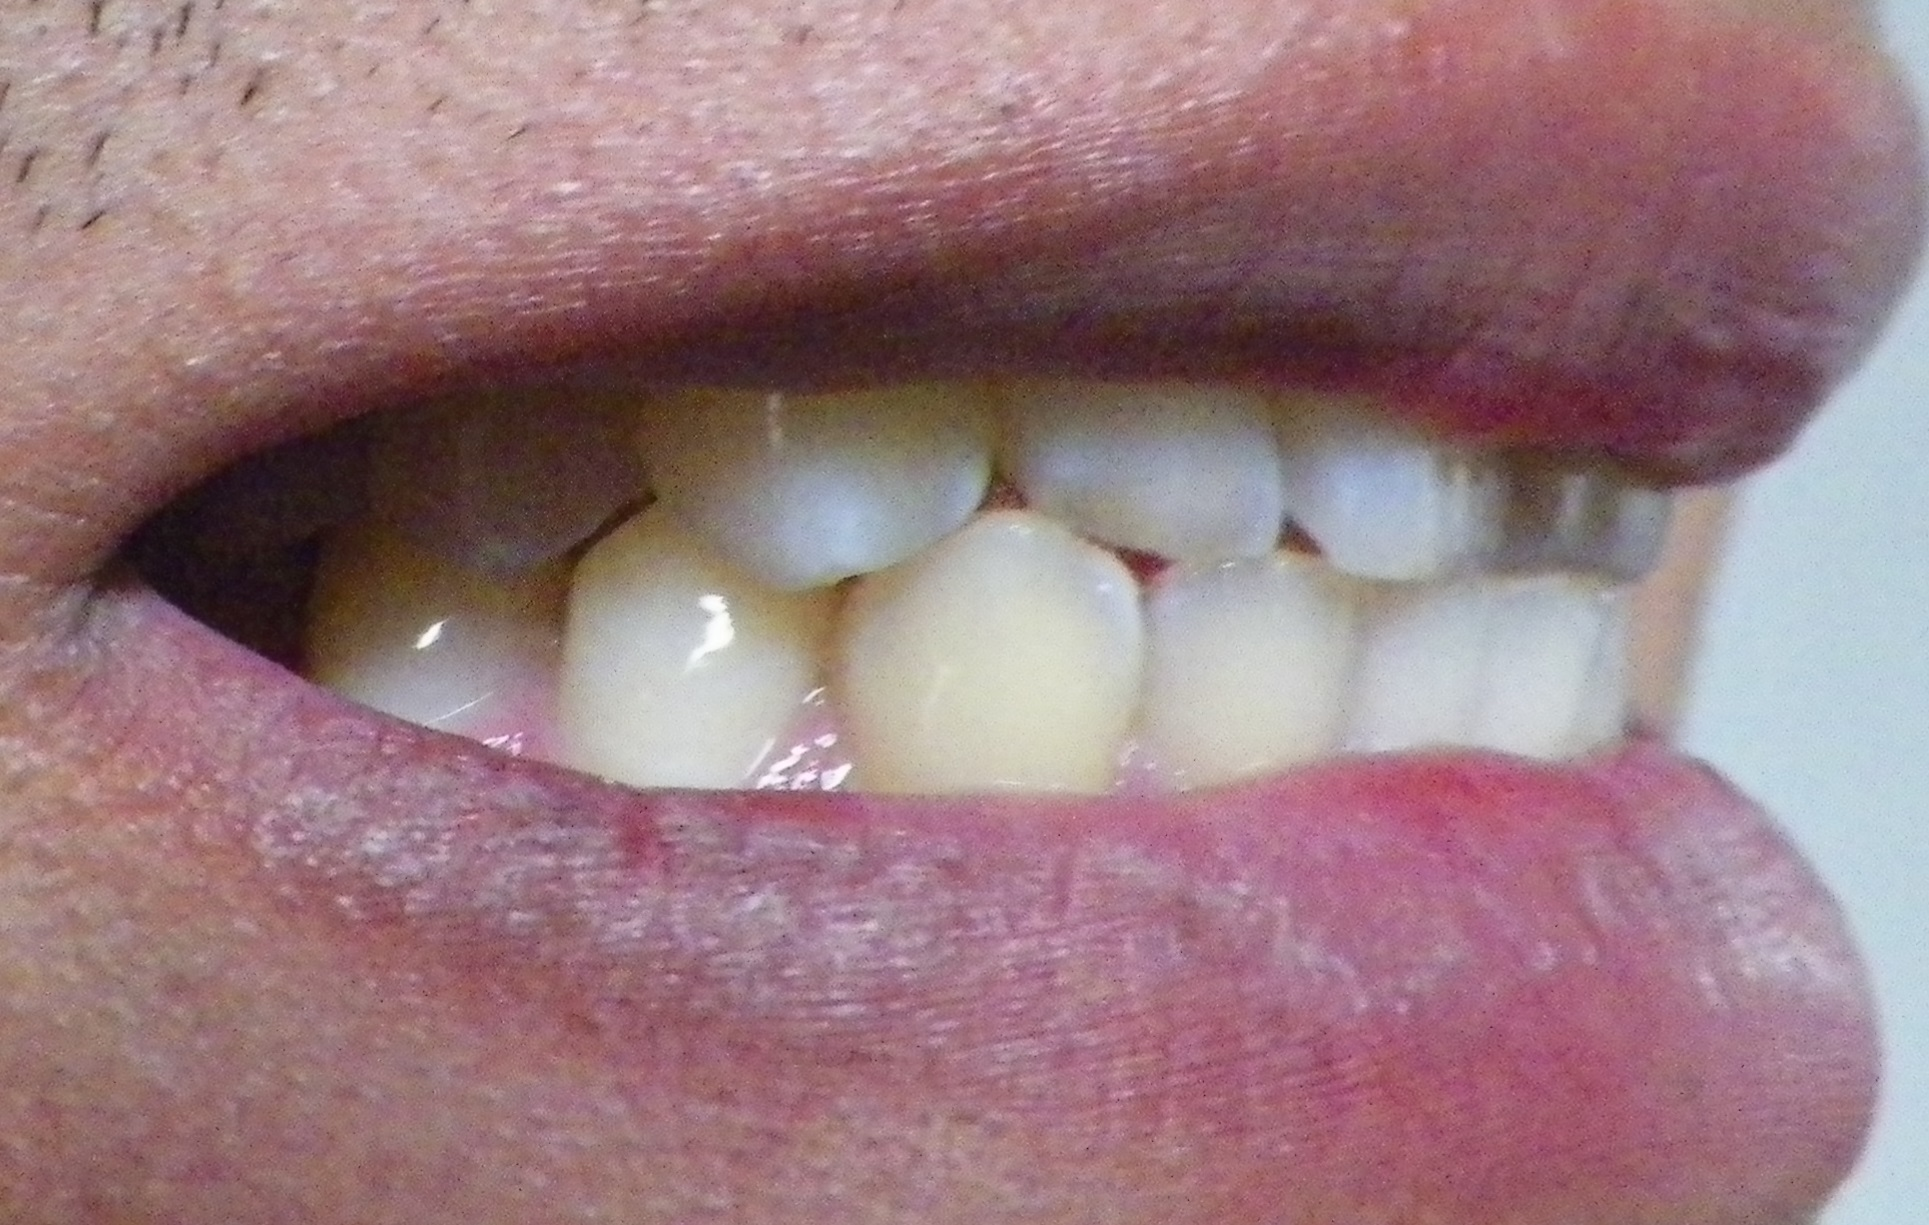boca: (335, 381, 1652, 793)
